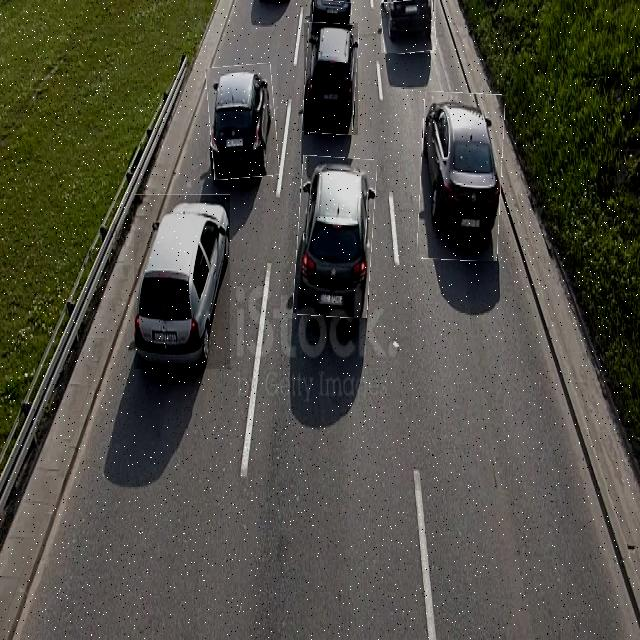Car: (134, 194, 230, 369), (419, 92, 503, 261), (296, 156, 374, 317), (208, 65, 277, 179), (304, 23, 358, 135), (381, 0, 436, 53), (312, 0, 351, 27)
